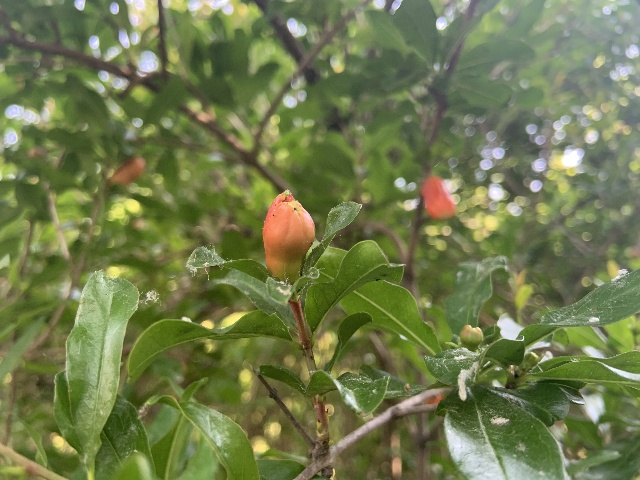bud: (262, 193, 314, 281), (420, 175, 455, 222), (459, 324, 483, 350)
